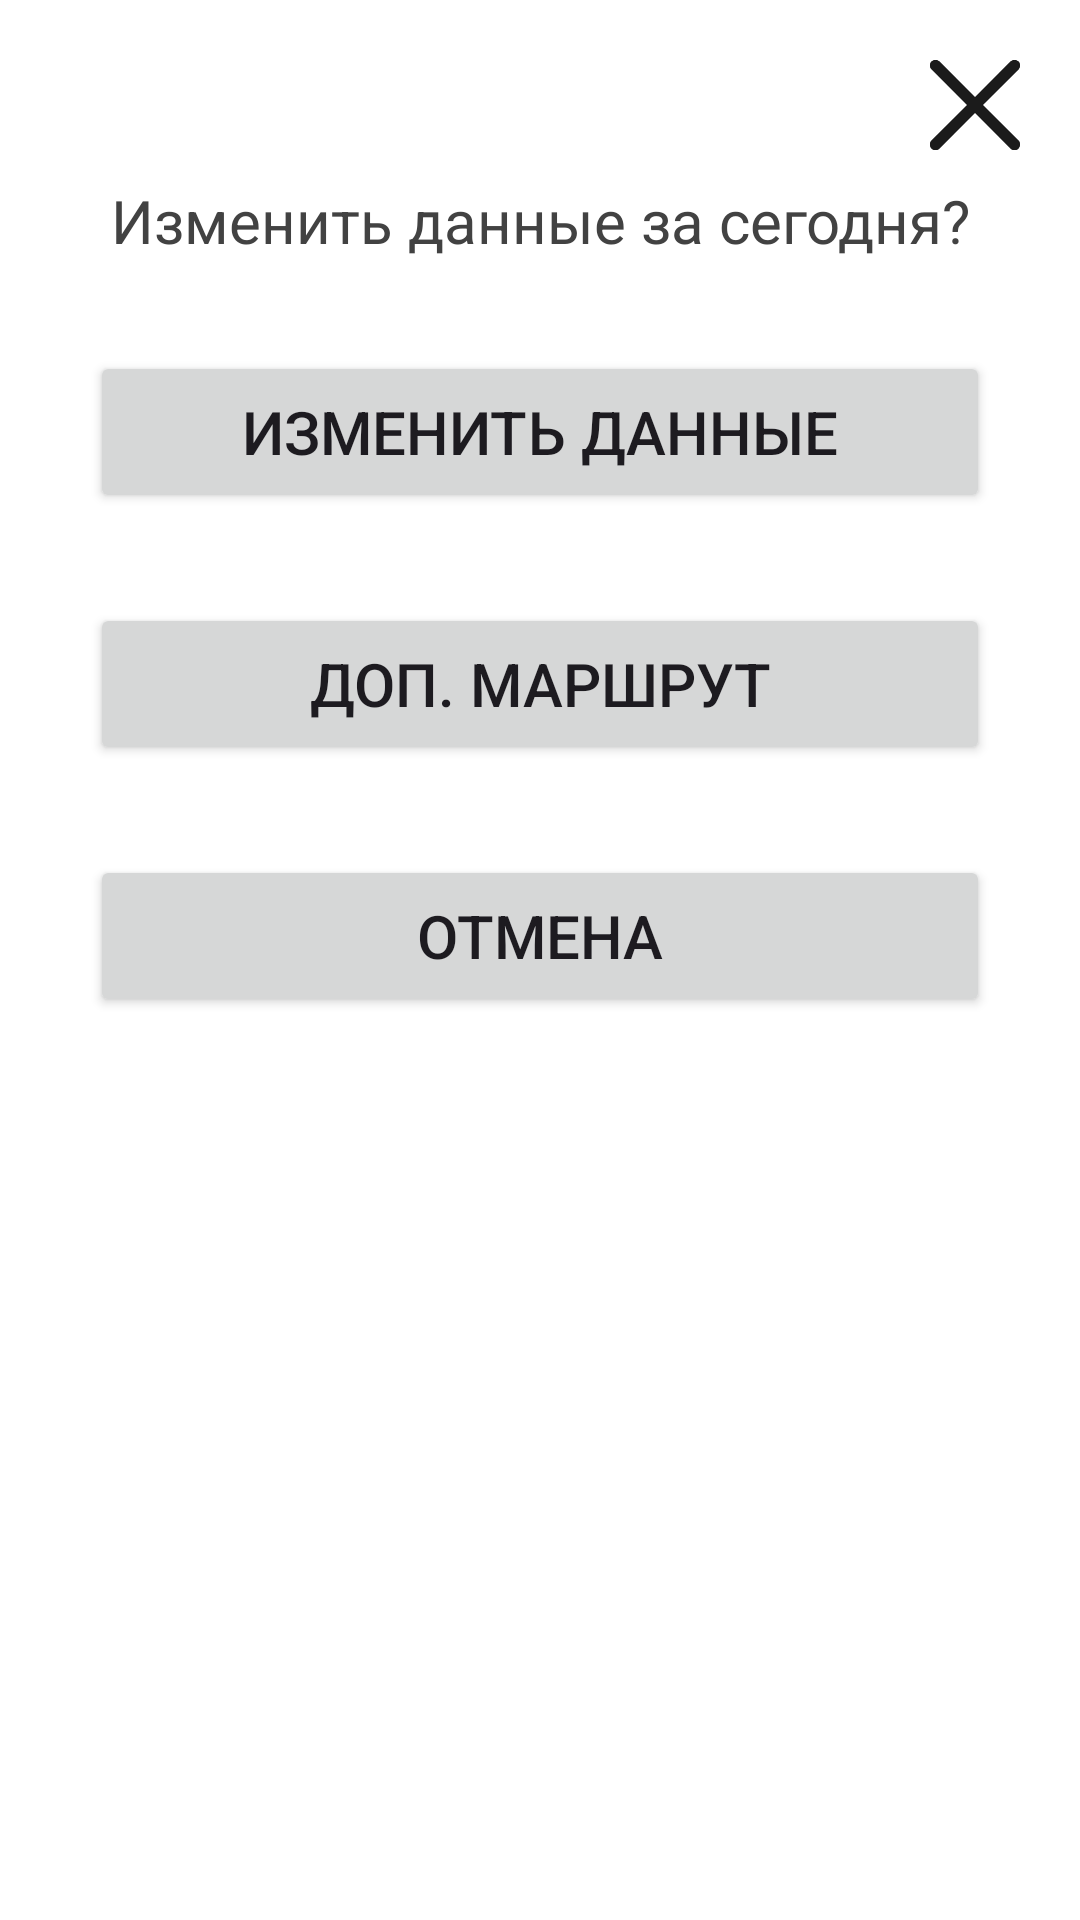

Icons on this 1080*1920 Android screen, each with the point to tap as (x,y):
close: (975,105)
